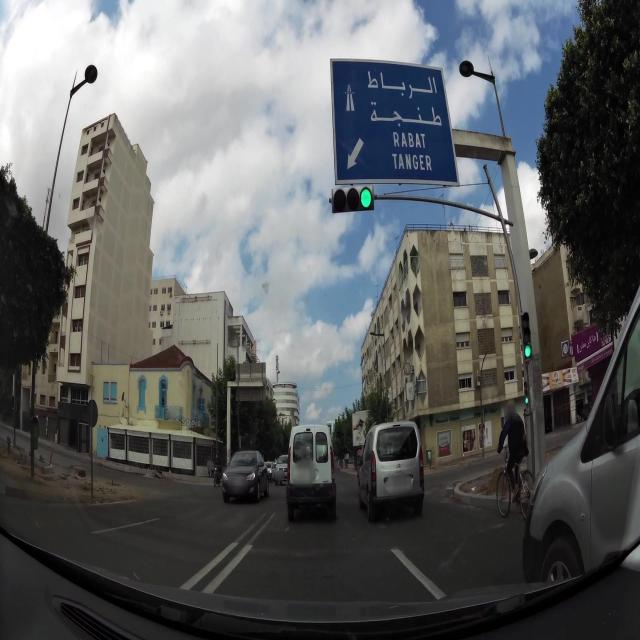bike: (496, 443, 532, 518)
car: (522, 242, 640, 586), (356, 420, 425, 522), (286, 421, 337, 522), (222, 450, 269, 503), (274, 454, 290, 485), (264, 461, 275, 480)
